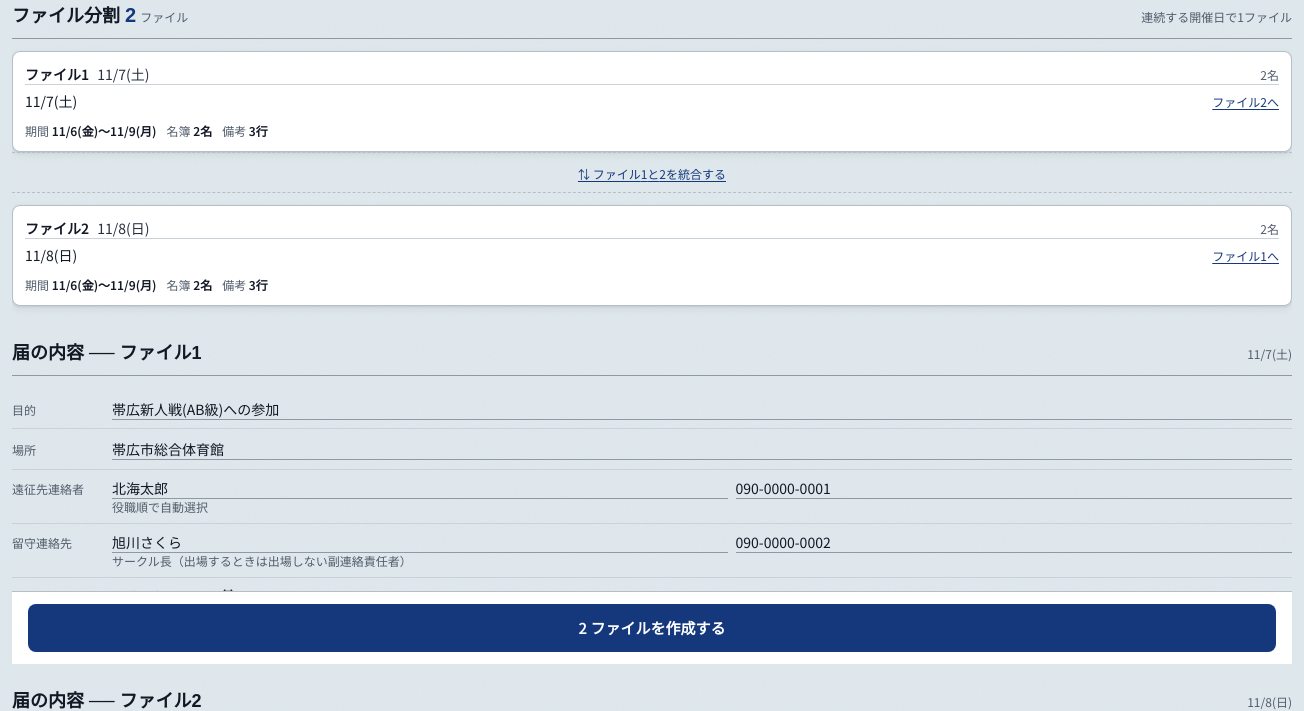
final レビューの指摘（再計算中の作成・連絡先の dirty 分離） › ★再計算が終わるまで作成ボタンを押せない
Click the button "⇅ ファイル1と2を統合する": (652, 174) [578,166,726,182]
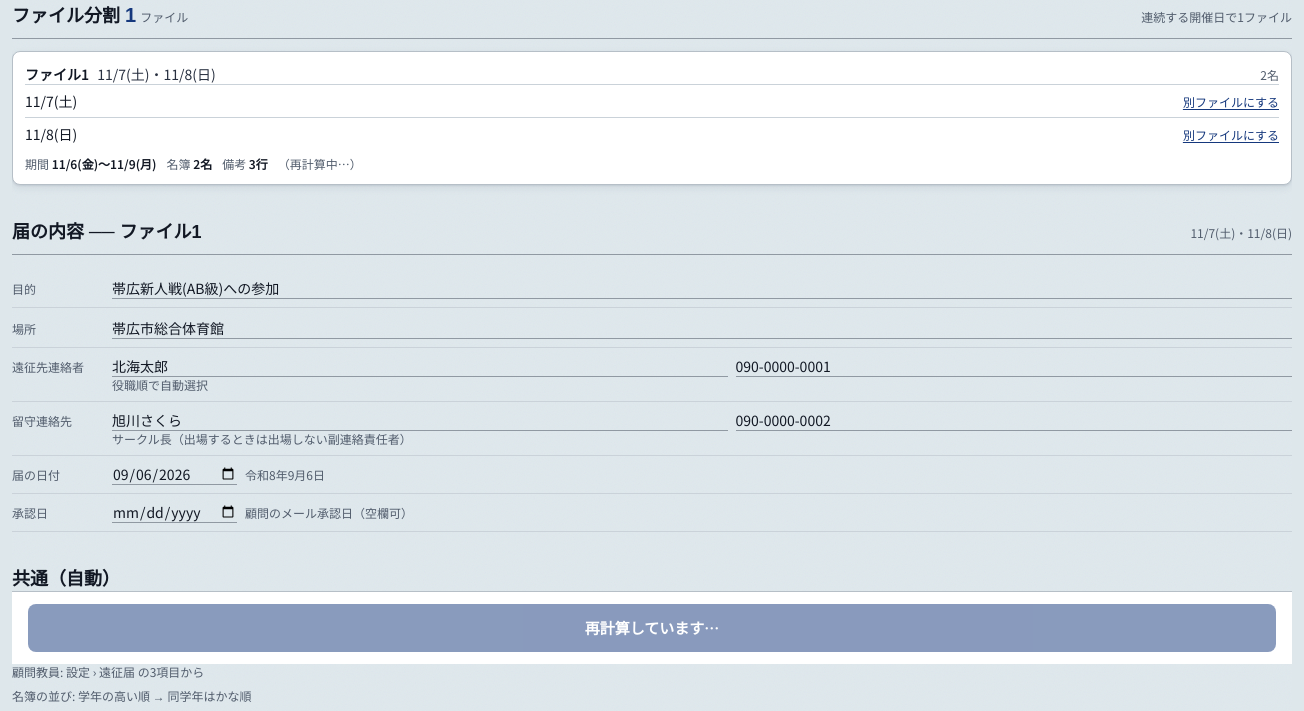
Expected: the button "再計算しています…" is shown
Expected: the button "再計算しています…" is disabled
Click the button "再計算しています…": (652, 628) [28,604,1276,652]
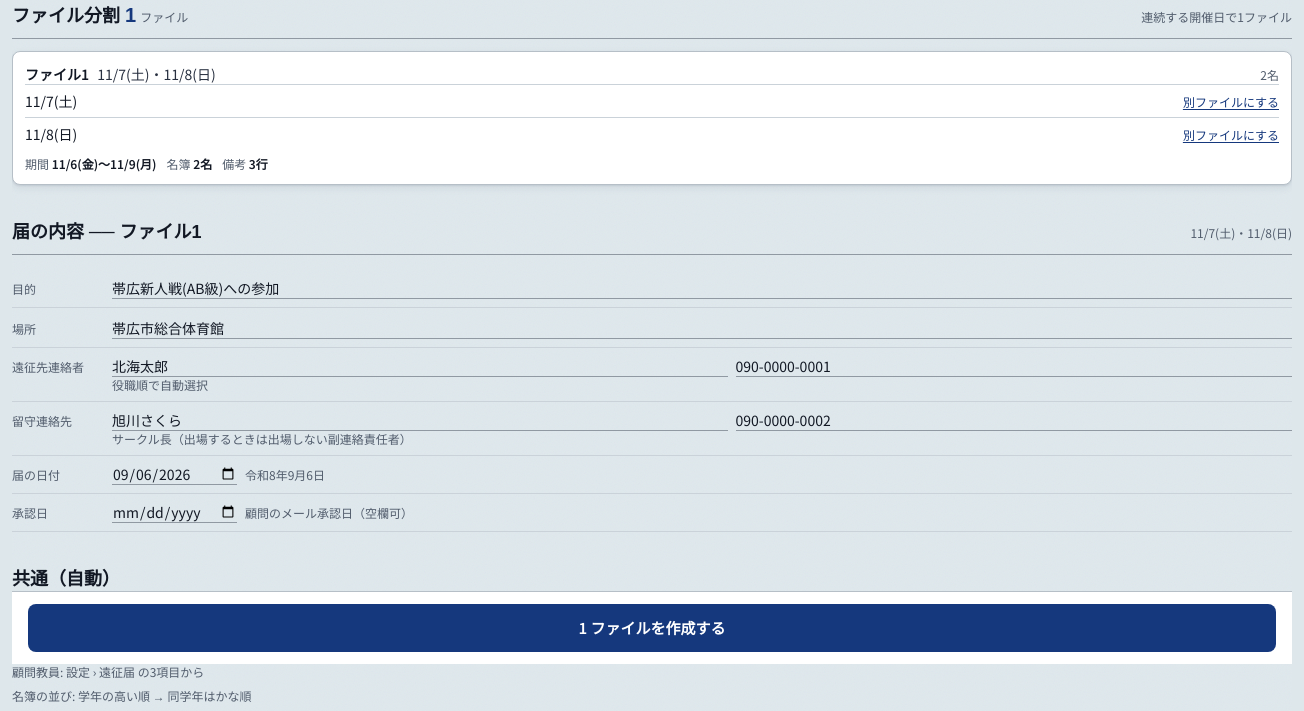
Expected: the button "1 ファイルを作成する" is shown, [28,604,1276,652]
